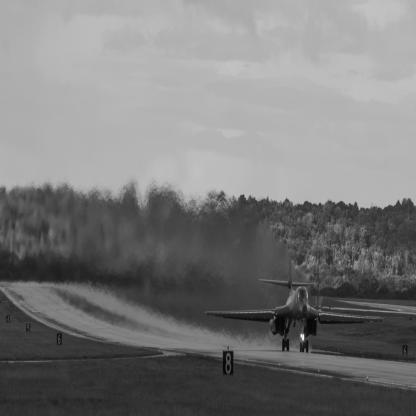B1: (205, 244, 385, 354)
